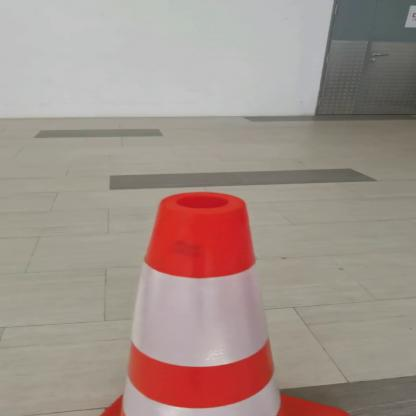cone: (98, 189, 366, 415)
